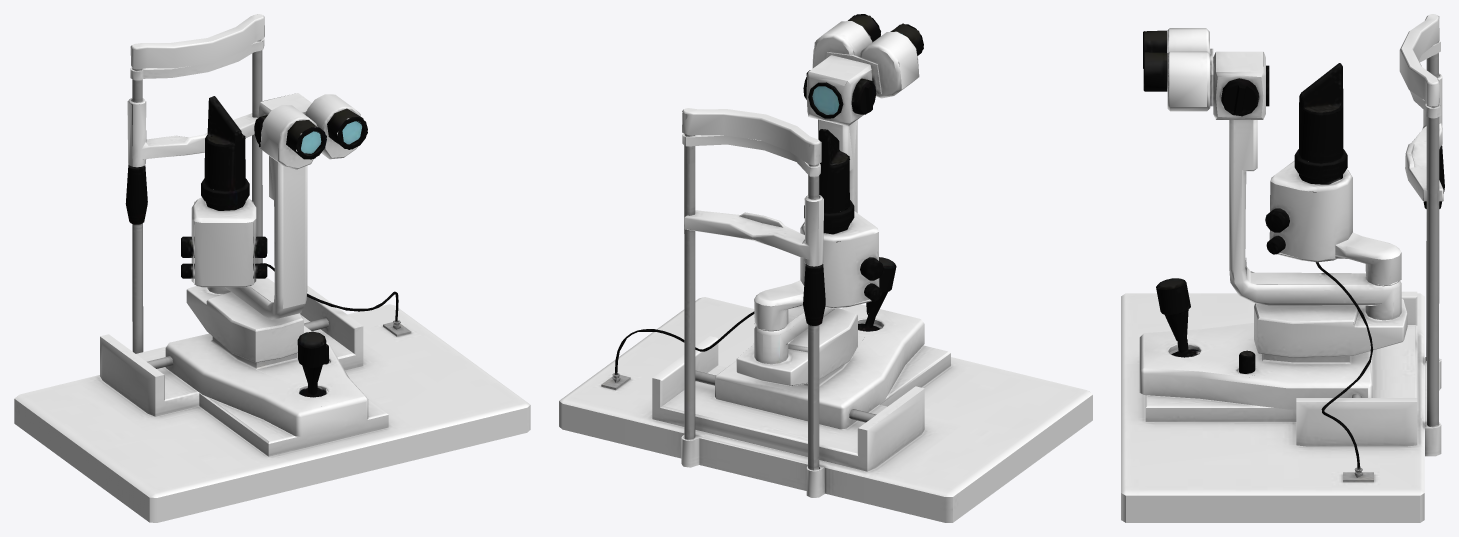
Rendered from optimized-slit-lamp.glb.
3 views of the same model, side by side, from view 1: azimuth 30°, elevation 25°; view 2: azimuth 150°, elevation 25°; view 3: azimuth 270°, elevation 25° (orthographic). The views are drawn at different scales.
Parts seen in each view (by area): view 1: SlitLamp; view 2: SlitLamp; view 3: SlitLamp.
Part boxes in pixels (<box>): SlitLamp: <box>14,14,530,522</box>; SlitLamp: <box>559,14,1092,522</box>; SlitLamp: <box>1121,14,1444,522</box>.
Bounding box in the file's own units: 7.62 × 6.68 × 5.16.
Materials: 1 (1 with a texture image).
